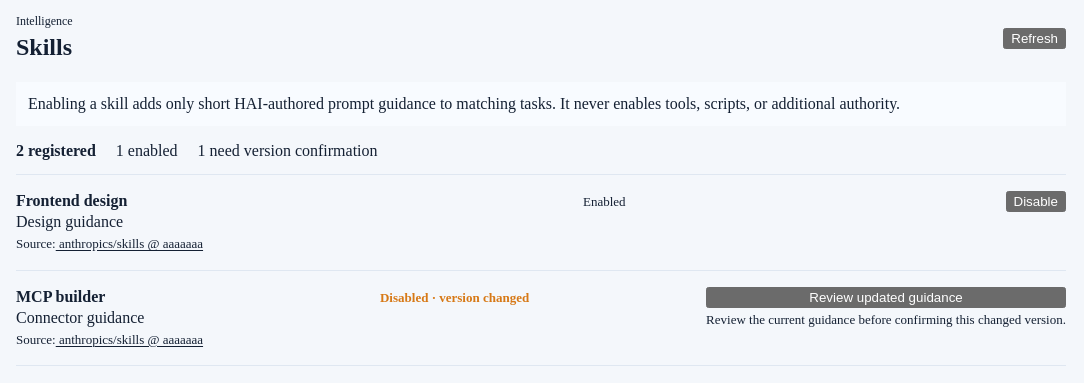
Scenario: SkillsComponent › fails closed and requires refresh when a selection response has an invalid shape
This screenshot has width=1084, height=383.
Click the button with aria-label "Disable Frontend design" at coordinates (1036, 202), box [1006,191,1066,212]
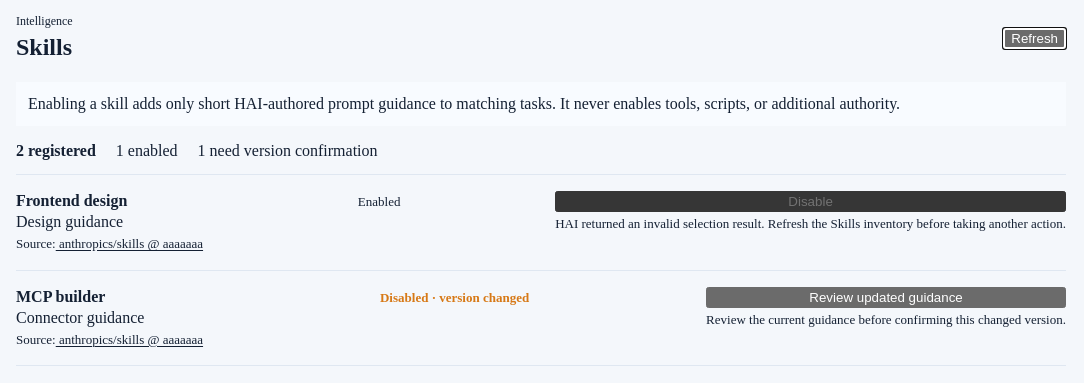
Check: the message shows "invalid selection result", box [555,216,1066,231]
Check: the button with aria-label "Disable Frontend design" is disabled, box [555,191,1066,212]
